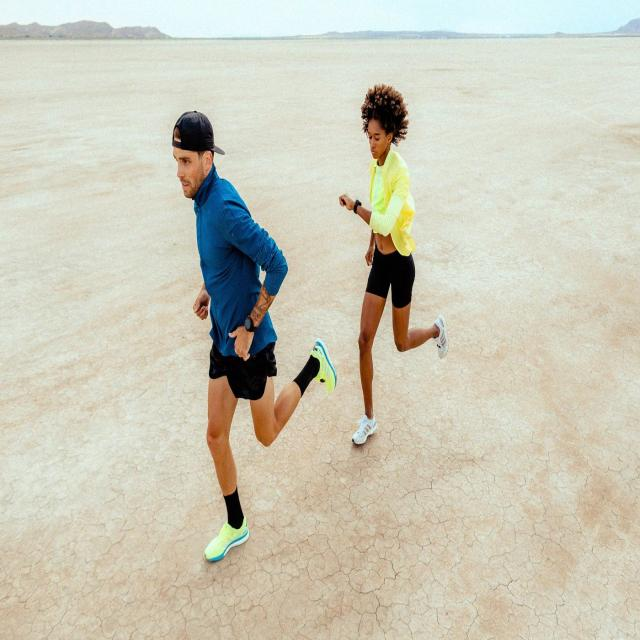Person: (172, 111, 336, 562), (341, 84, 448, 448)
